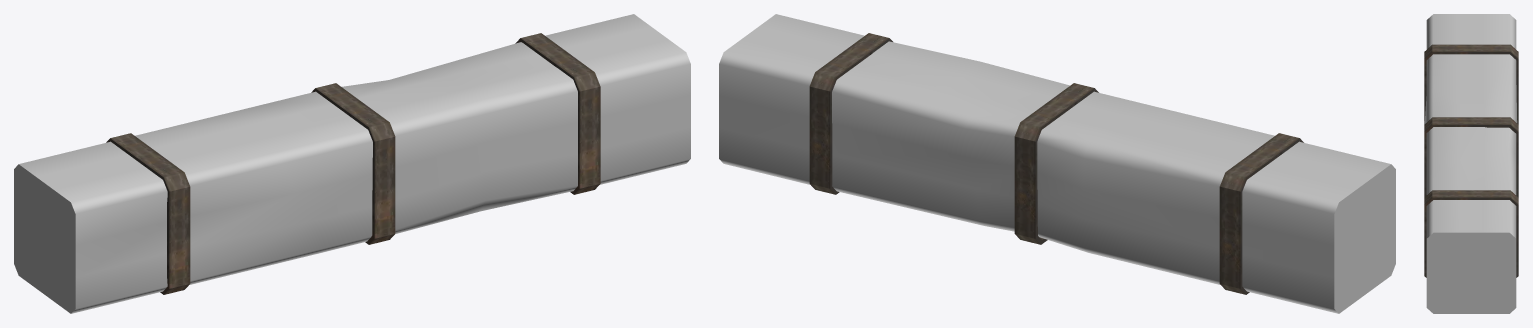
The picture shows the model from 3 angles, left to right: view 1: azimuth 30°, elevation 25°; view 2: azimuth 150°, elevation 25°; view 3: azimuth 270°, elevation 25°; orthographic projection. The views are drawn at different scales.
Parts seen in each view (by area): view 1: SM_BB_T3_Extended_Beam_Thick_Large_Horizontal_LOD0; view 2: SM_BB_T3_Extended_Beam_Thick_Large_Horizontal_LOD0; view 3: SM_BB_T3_Extended_Beam_Thick_Large_Horizontal_LOD0.
Part boxes in pixels (x1=…): SM_BB_T3_Extended_Beam_Thick_Large_Horizontal_LOD0: x1=14, y1=14, x2=690, y2=313; SM_BB_T3_Extended_Beam_Thick_Large_Horizontal_LOD0: x1=719, y1=14, x2=1395, y2=313; SM_BB_T3_Extended_Beam_Thick_Large_Horizontal_LOD0: x1=1424, y1=14, x2=1518, y2=313.
Bounding box in the file's own units: 3 × 0.5477 × 0.5477.
